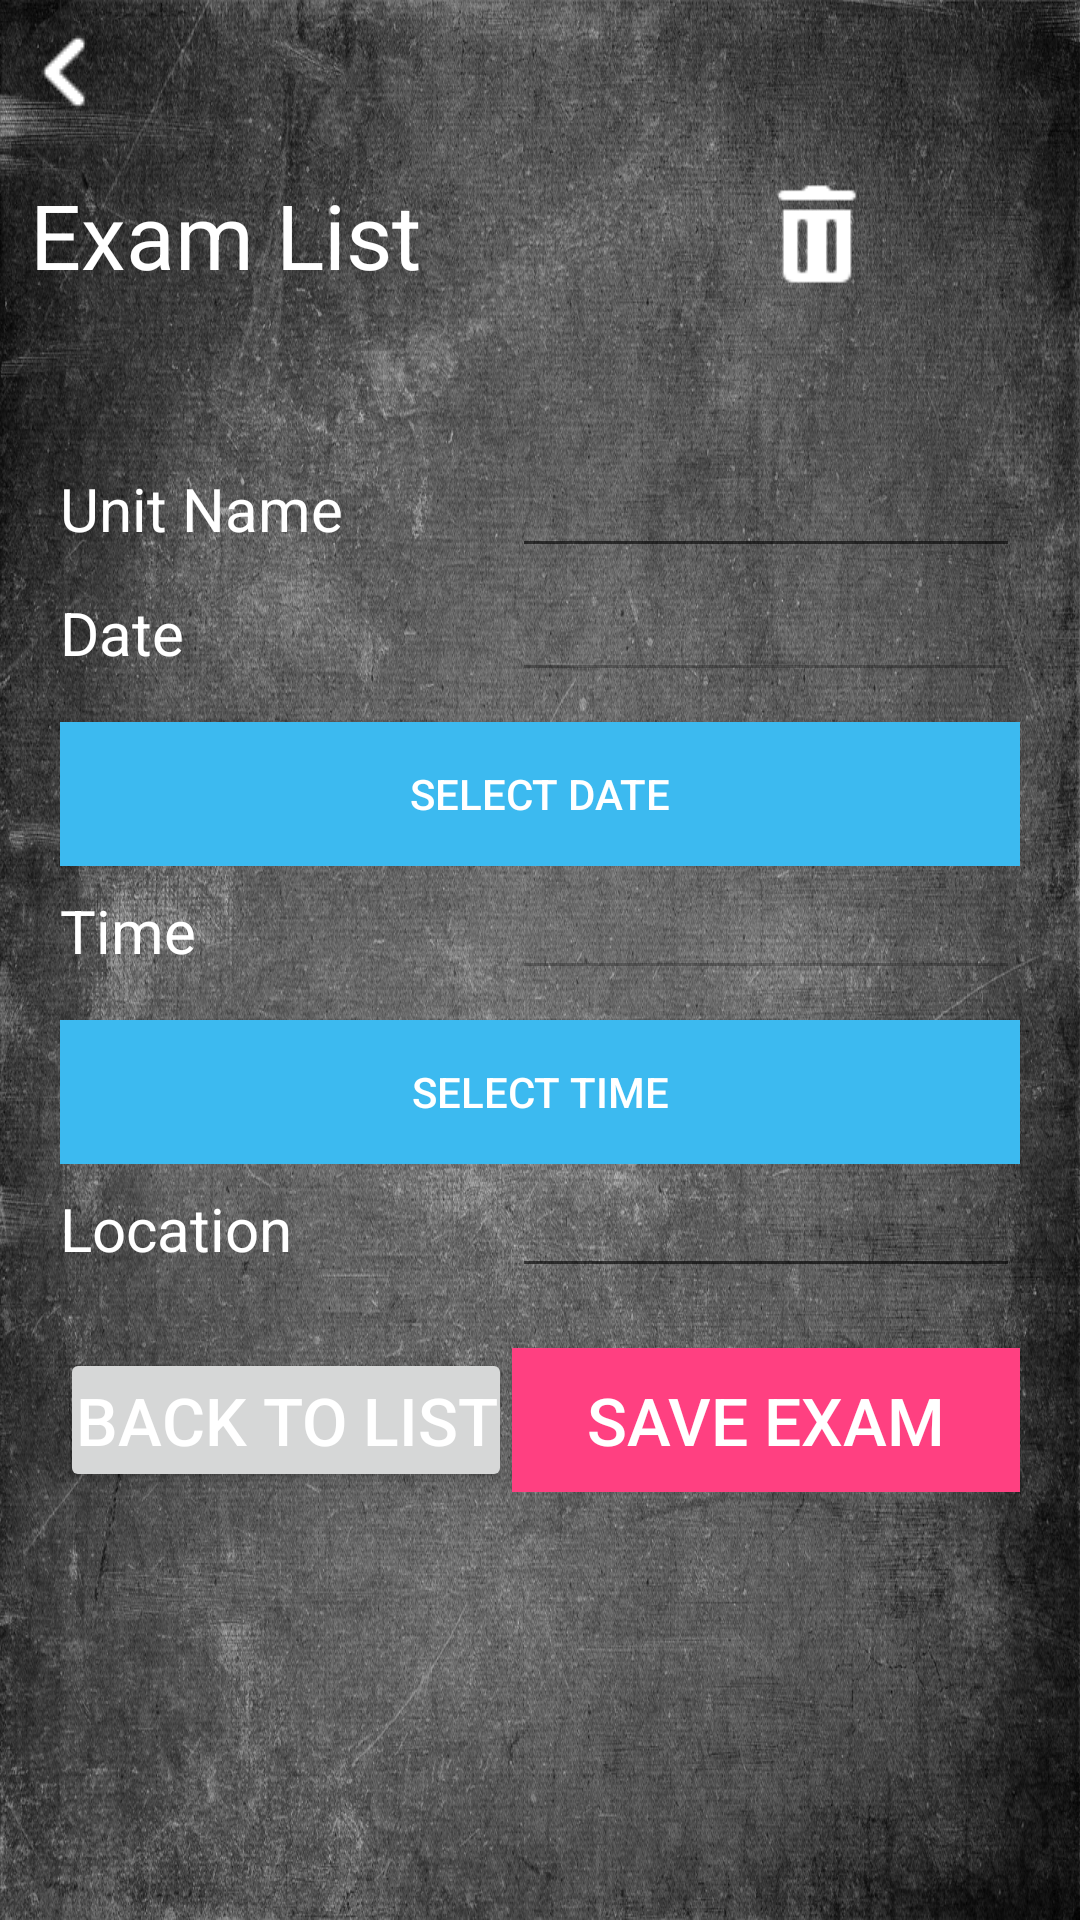

Point at icon controls on the screen. Image size 1080px×1920px, points as point (x, y).
back: point (72, 72)
trash: point (817, 234)
